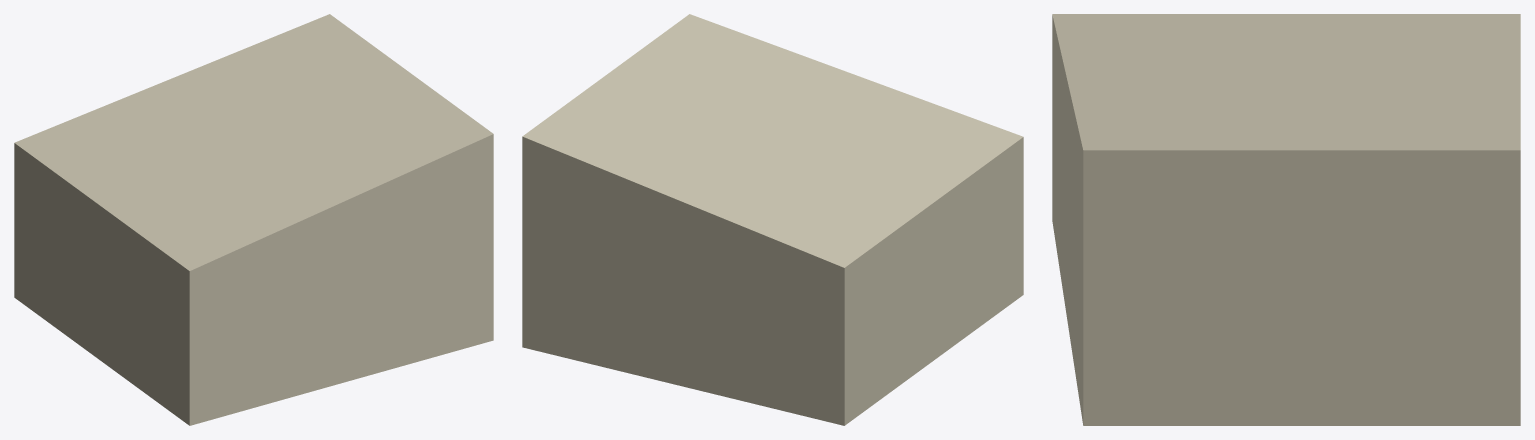
The model's file is Rock_Square_s_03.fbx.
3 views of the same model, side by side, from view 1: azimuth 30°, elevation 25°; view 2: azimuth 150°, elevation 25°; view 3: azimuth 270°, elevation 25° (orthographic). The views are drawn at different scales.
Parts seen in each view (by area): view 1: Rock_Square_s_03; view 2: Rock_Square_s_03; view 3: Rock_Square_s_03.
Part boxes in pixels (x1,y1,x2,y2): Rock_Square_s_03: (14, 14, 493, 425); Rock_Square_s_03: (522, 14, 1023, 425); Rock_Square_s_03: (1052, 14, 1520, 425).
Size of the model in its own units: 40.23 by 25.15 by 38.75.
